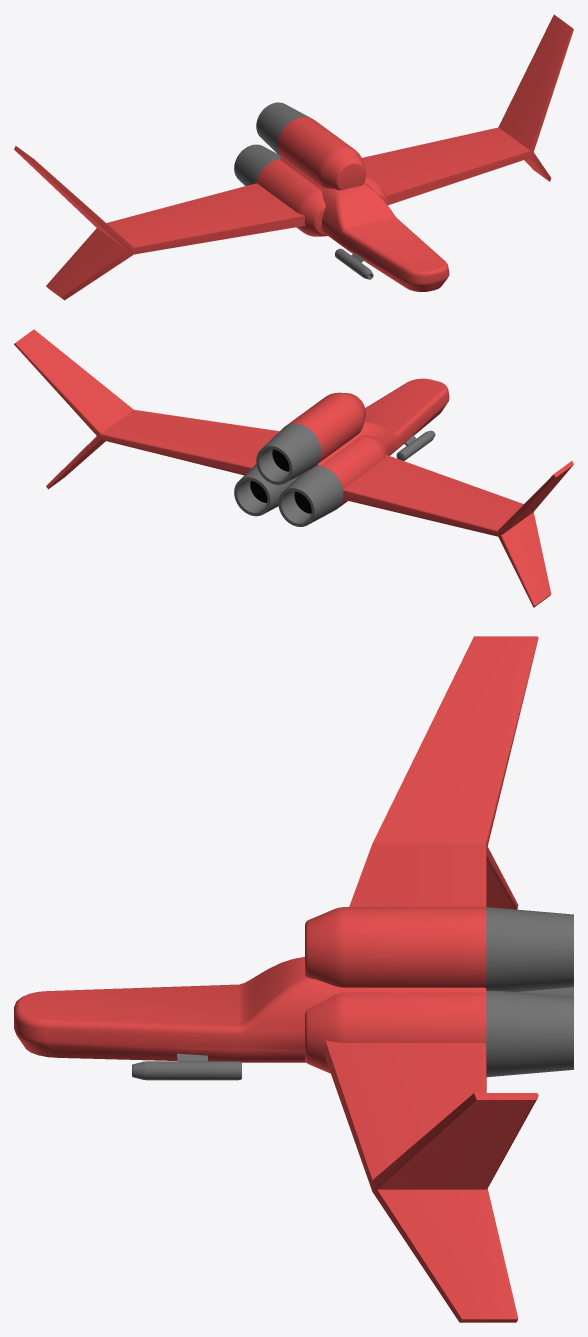
The model's file is spaceship2.fbx.
The picture shows the model from 3 angles, top to bottom: view 1: azimuth 30°, elevation 25°; view 2: azimuth 150°, elevation 25°; view 3: azimuth 270°, elevation 25°; orthographic projection. The views are drawn at different scales.
Visible parts, largest first — view 1: Plane, ThrusterLeft, ThrusterRight, ThrusterTop.001; view 2: Plane, ThrusterLeft, ThrusterRight, ThrusterTop, ThrusterTop.001; view 3: Plane, ThrusterLeft, ThrusterTop, ThrusterTop.001.
Part boxes in pixels (x1=…): Plane: x1=14, y1=14, x2=573, y2=300; ThrusterLeft: x1=256, y1=102, x2=365, y2=190; ThrusterRight: x1=234, y1=144, x2=327, y2=236; ThrusterTop.001: x1=335, y1=248, x2=373, y2=279; Plane: x1=14, y1=329, x2=573, y2=607; ThrusterLeft: x1=256, y1=392, x2=365, y2=484; ThrusterRight: x1=278, y1=435, x2=387, y2=526; ThrusterTop: x1=234, y1=464, x2=297, y2=516; ThrusterTop.001: x1=396, y1=430, x2=435, y2=460; Plane: x1=14, y1=636, x2=538, y2=1322; ThrusterLeft: x1=305, y1=907, x2=573, y2=991; ThrusterTop: x1=305, y1=990, x2=573, y2=1077; ThrusterTop.001: x1=132, y1=1053, x2=241, y2=1080.
Bounding box in the file's own units: 25.4 × 13.03 × 6.47.
